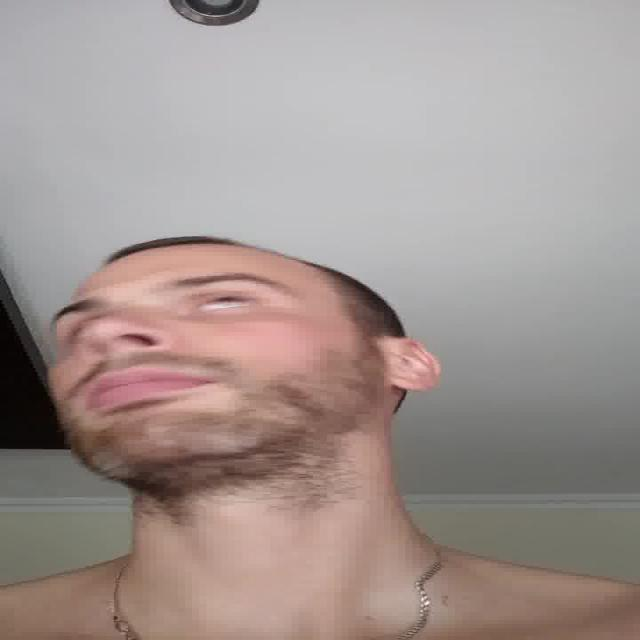earlobe: (389, 376, 439, 392)
eye: (188, 292, 261, 312)
nose: (88, 339, 170, 377)
wholeear: (389, 336, 442, 391)
